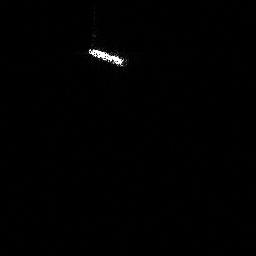ship: (84, 45, 130, 70)
